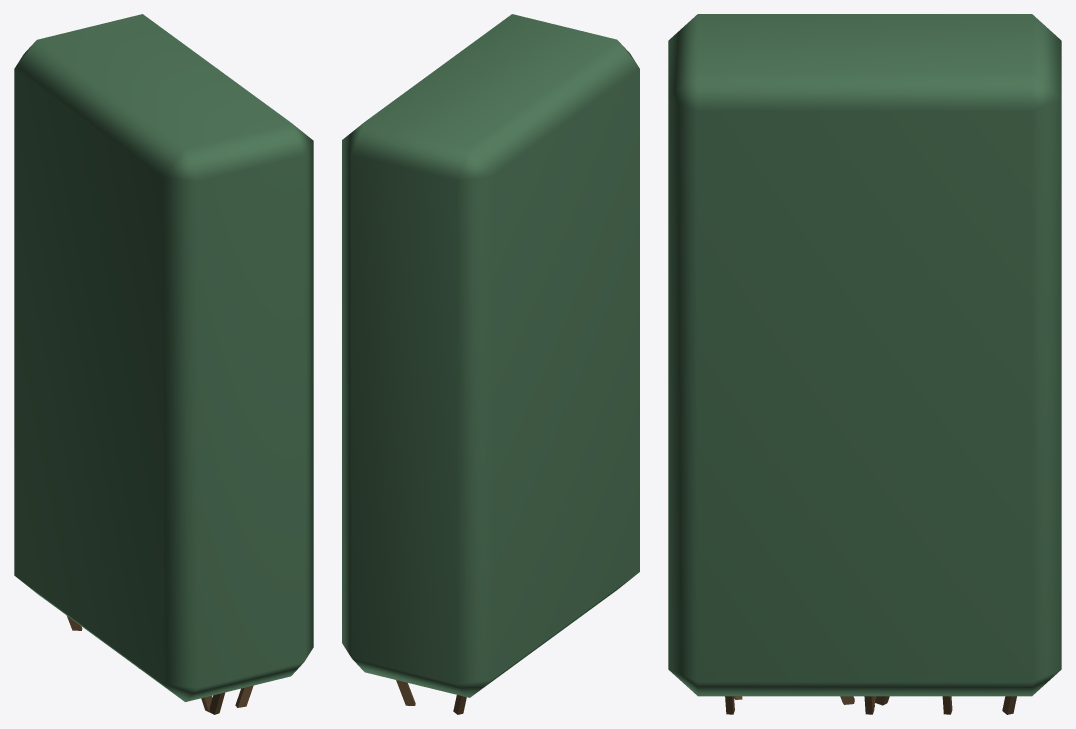
Rendered from Plants_Garden.fbx.
The picture shows the model from 3 angles, left to right: view 1: azimuth 30°, elevation 25°; view 2: azimuth 150°, elevation 25°; view 3: azimuth 270°, elevation 25°; orthographic projection. The views are drawn at different scales.
Visible parts, largest first — view 1: Plant_01; view 2: Plant_01; view 3: Plant_01.
Boxes of the visible parts, x1,y1,x2,y2 form: Plant_01: (14, 14, 313, 714); Plant_01: (342, 14, 639, 714); Plant_01: (668, 14, 1061, 714).
Size of the model in its own units: 50 by 185 by 100.
